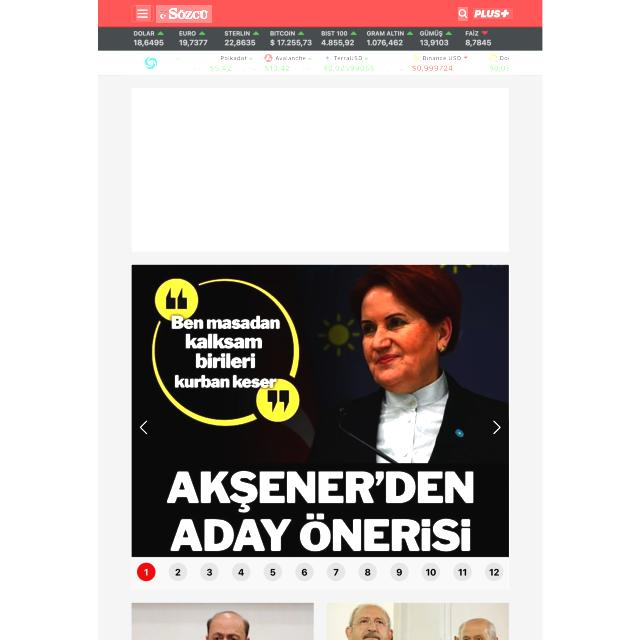QR code: (98, 26, 543, 51), (98, 50, 543, 74)
RadioButton: (473, 8, 513, 19)
Switch: (131, 264, 510, 557)
bag: (98, 0, 543, 75)
carousel: (458, 7, 468, 21)
date picker: (156, 5, 212, 23)
decoration: (136, 5, 151, 21)
dropdown: (132, 558, 508, 590)
